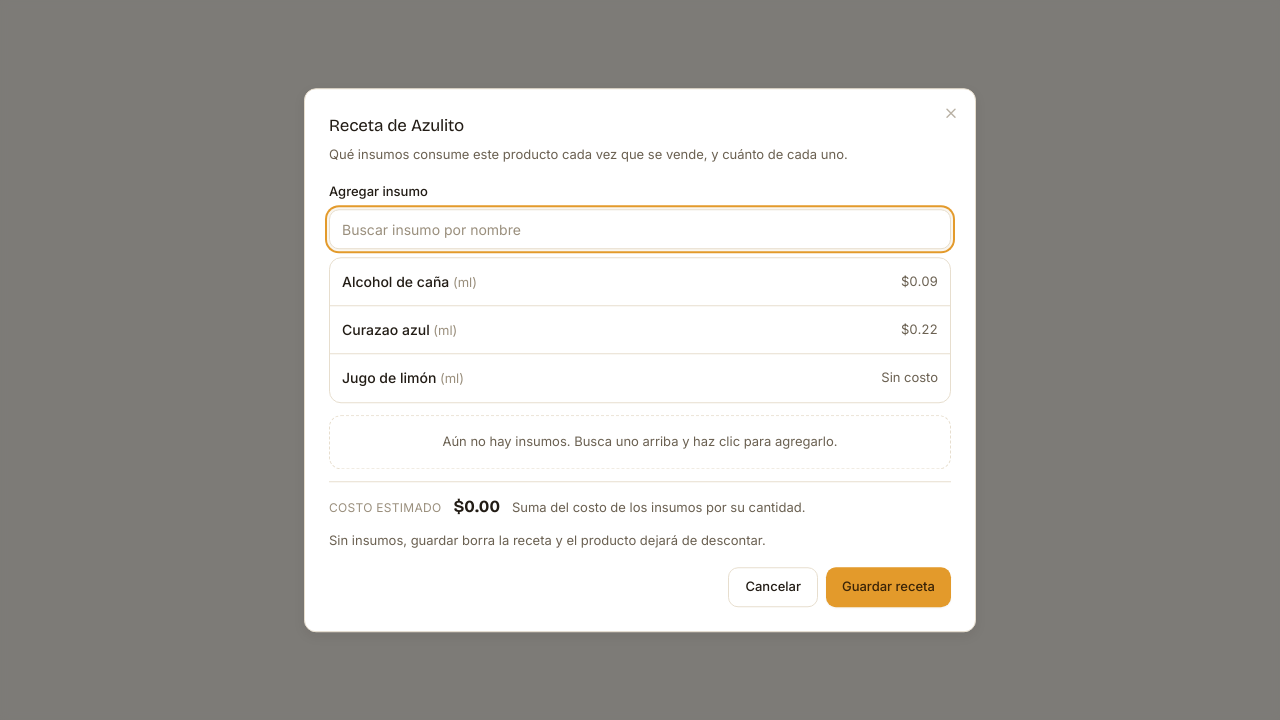
RecetaProductoDialog · costo estimado › avisa cuando un insumo no tiene costo y la suma sale corta
Click the button with aria-label "agregar alcohol de caña" at (396, 282), box [330, 258, 950, 306]
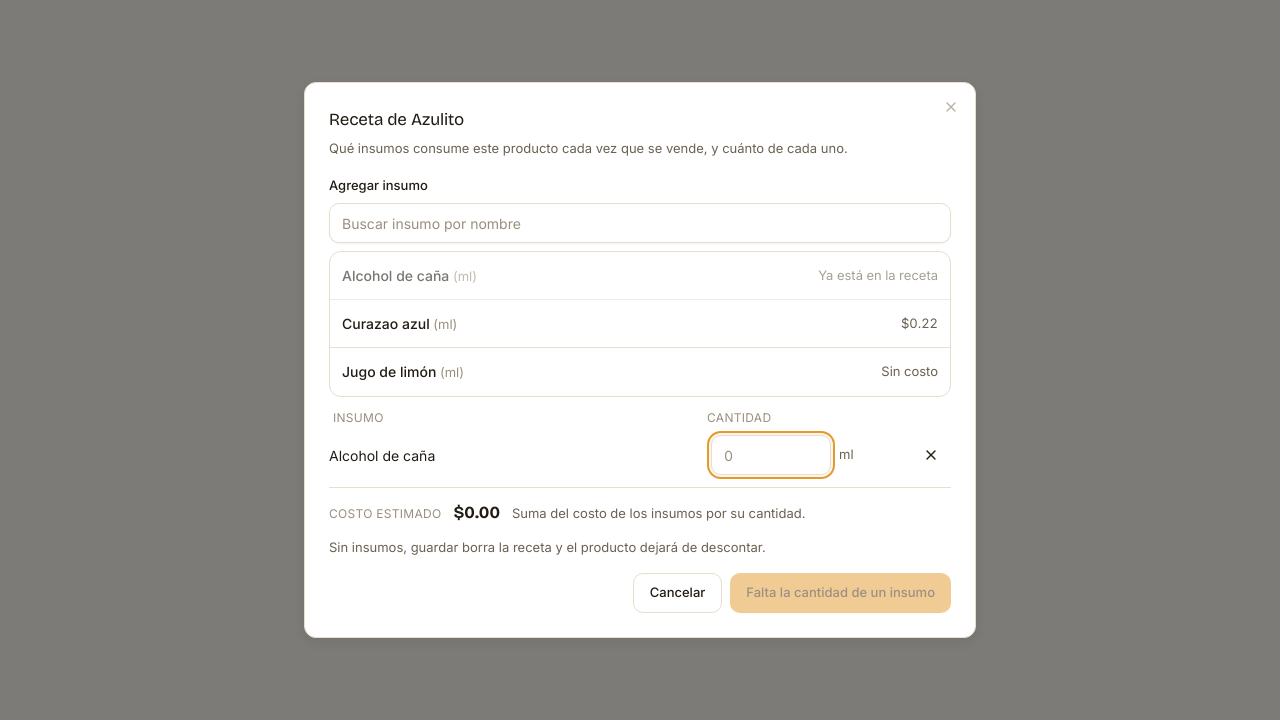
Type "60" into the field named "cantidad de alcohol de caña" at (771, 455), box [711, 435, 831, 475]
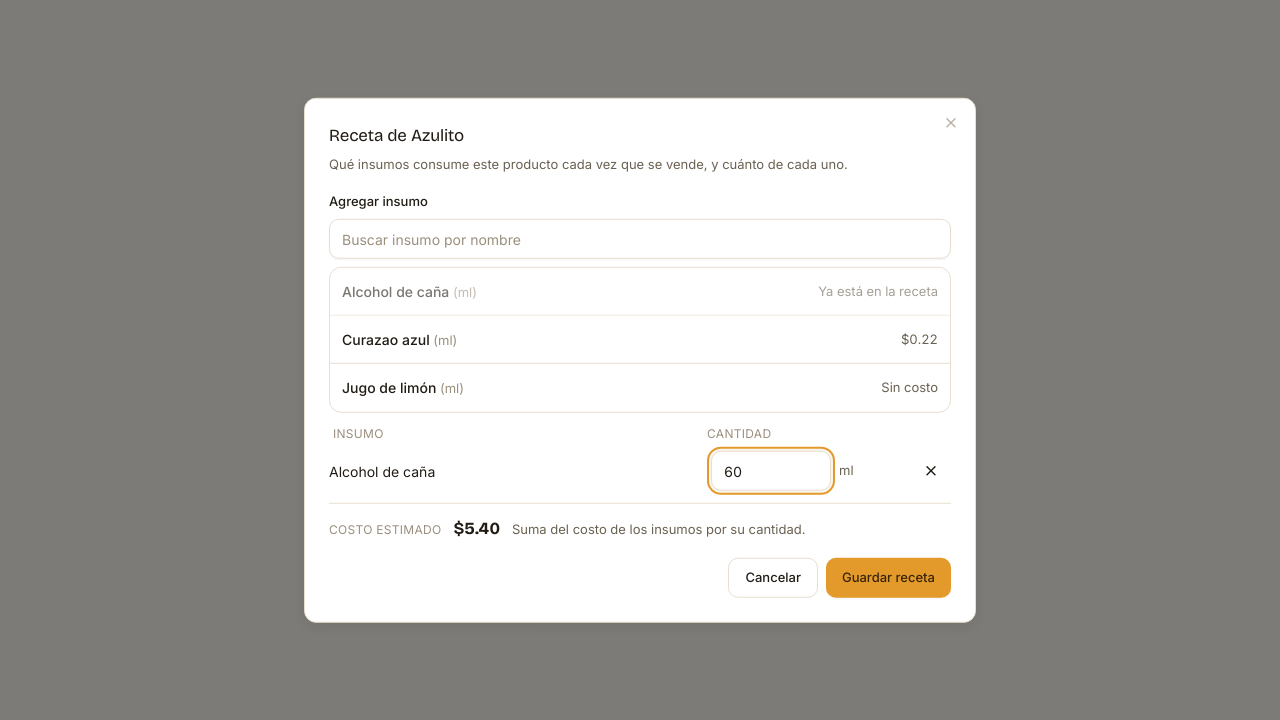
Click the button with aria-label "agregar jugo de limón" at (389, 388), box [330, 364, 950, 412]
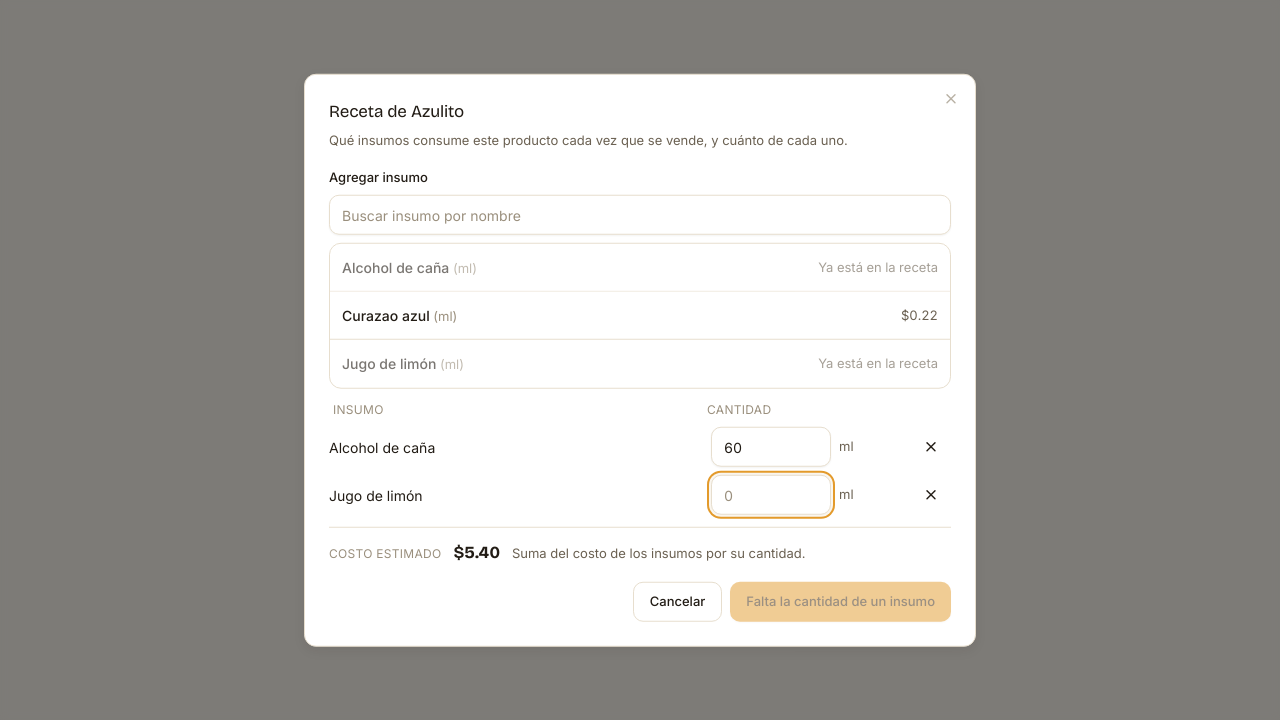
Type "20" into the field named "cantidad de jugo de limón" at (771, 495), box [711, 475, 831, 515]
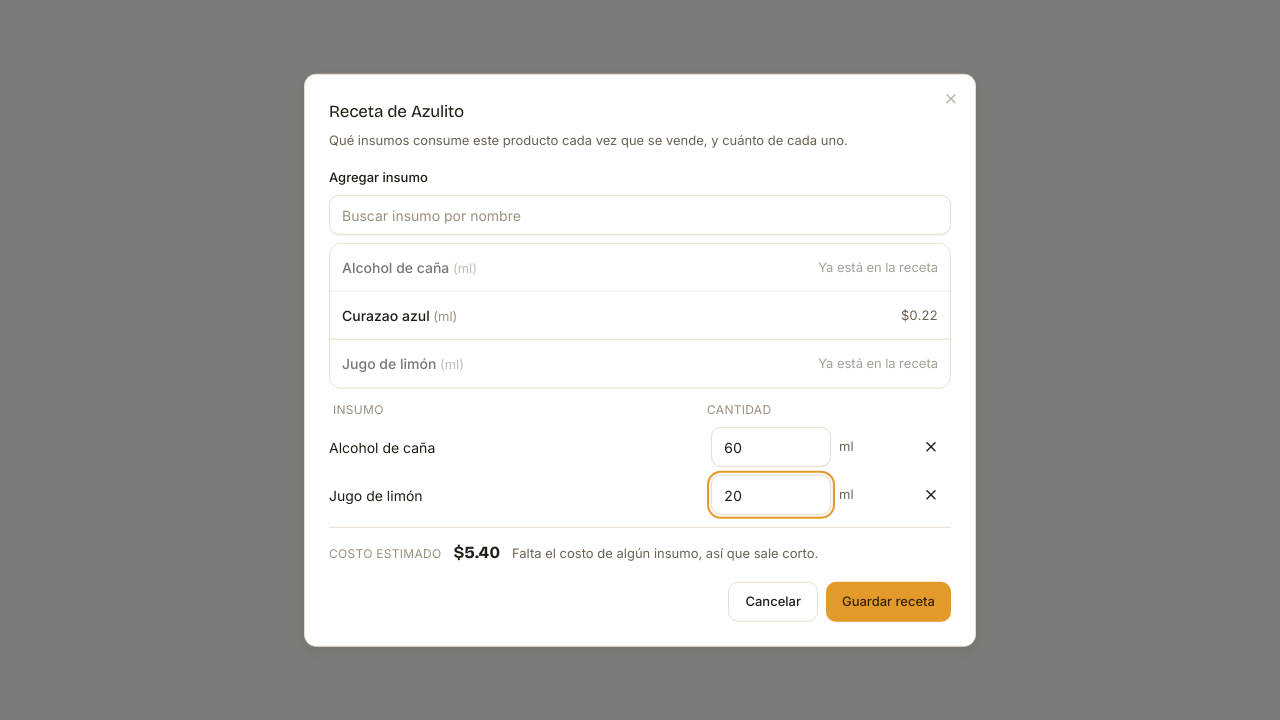
Now the text "$5.40" is shown, box [454, 540, 500, 565]
Now the text "Falta el costo de algún insumo, así que sale corto." is shown, box [512, 544, 818, 563]
